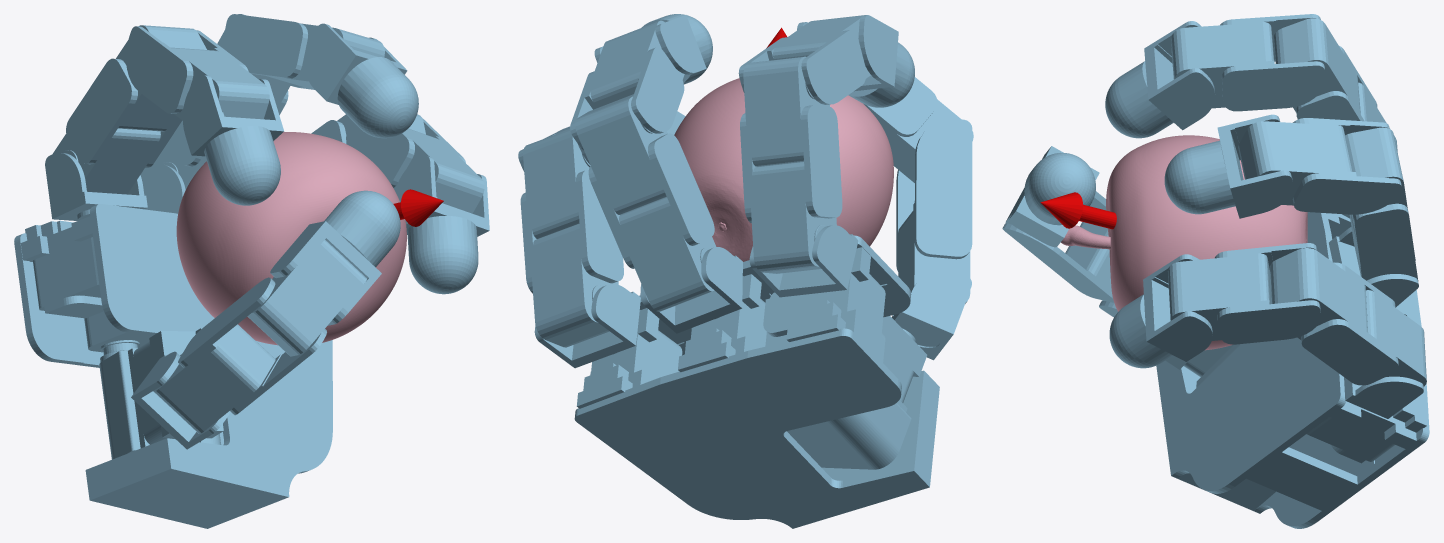
3 views of the same model, side by side, from view 1: azimuth 30°, elevation 25°; view 2: azimuth 150°, elevation 25°; view 3: azimuth 270°, elevation 25° (orthographic). The views are drawn at different scales.
Parts seen in each view (by area): view 1: world, apple.stl; view 2: world, apple.stl; view 3: world, apple.stl.
Part boxes in pixels (left/top/right/bottom): world: left=14, top=14, right=489, bottom=528; apple.stl: left=176, top=132, right=406, bottom=345; world: left=518, top=14, right=973, bottom=528; apple.stl: left=674, top=78, right=893, bottom=261; world: left=1002, top=14, right=1429, bottom=528; apple.stl: left=1061, top=135, right=1307, bottom=350.
Size of the model in its own units: 0.1533 by 0.1877 by 0.1515.
